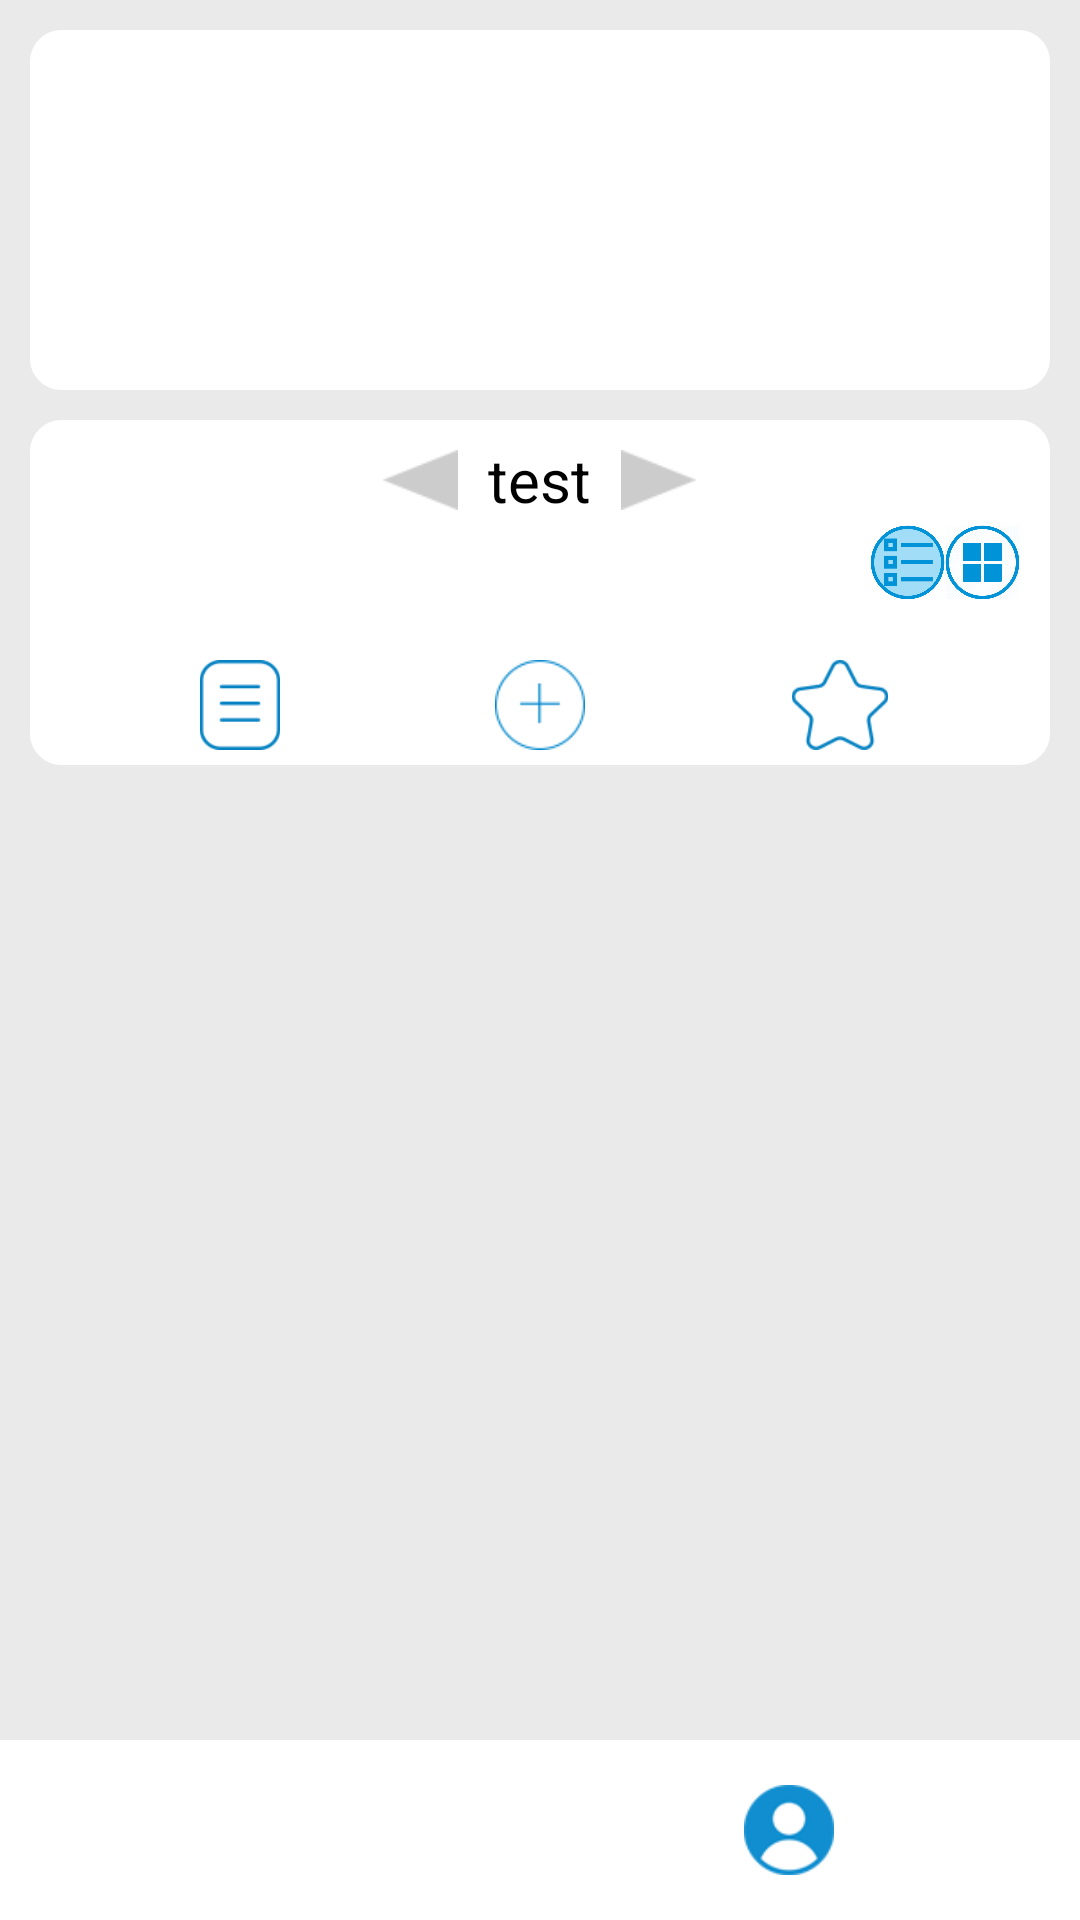

Point at icon controls on the screen. Image size 1080x1920, points as (x=x, y=y).
arrow left: (x=421, y=480)
arrow right: (x=657, y=480)
favorite: (x=840, y=705)
menu: (x=240, y=705)
plus: (x=540, y=705)
radio check grid: (x=982, y=562)
radio check list: (x=908, y=562)
